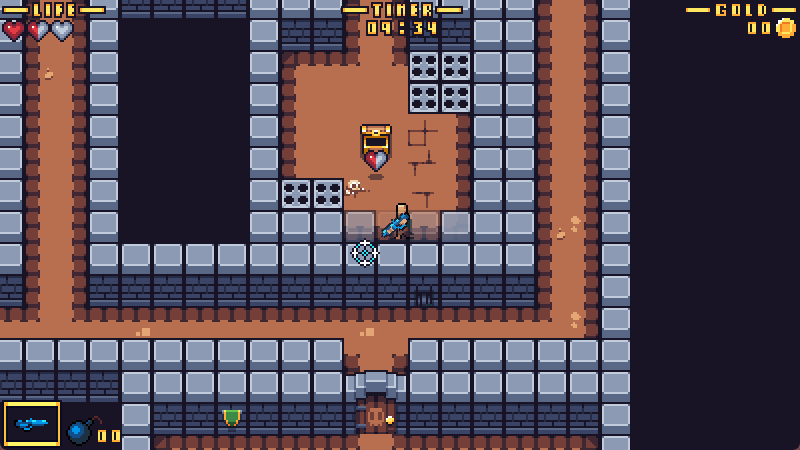aim: (350, 239, 381, 268)
bomb_counter_0: (66, 417, 123, 450)
door: (345, 369, 410, 438)
gold_counter: (686, 1, 800, 38)
health-3: (1, 18, 77, 44)
player: (378, 202, 412, 241)
reward_half_health: (363, 149, 389, 173)
timer: (342, 1, 463, 35)
trap_off: (409, 51, 472, 115), (281, 178, 344, 209)
treasury_open: (358, 122, 393, 154)
